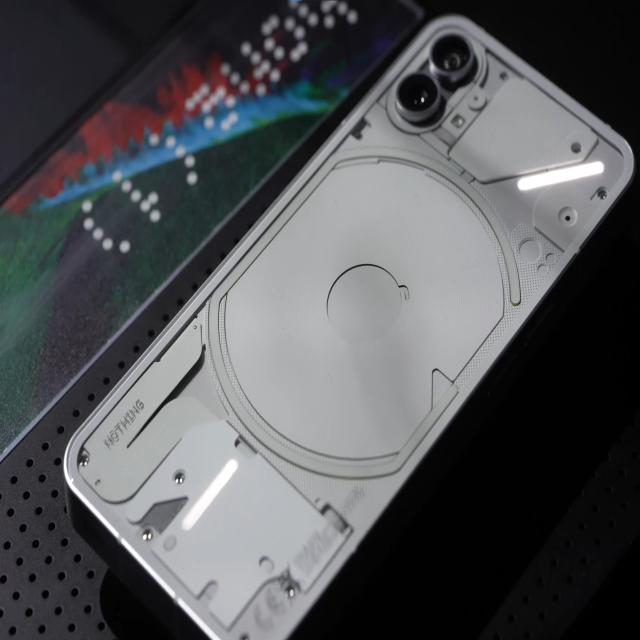mobile_phone: (36, 0, 640, 640)
